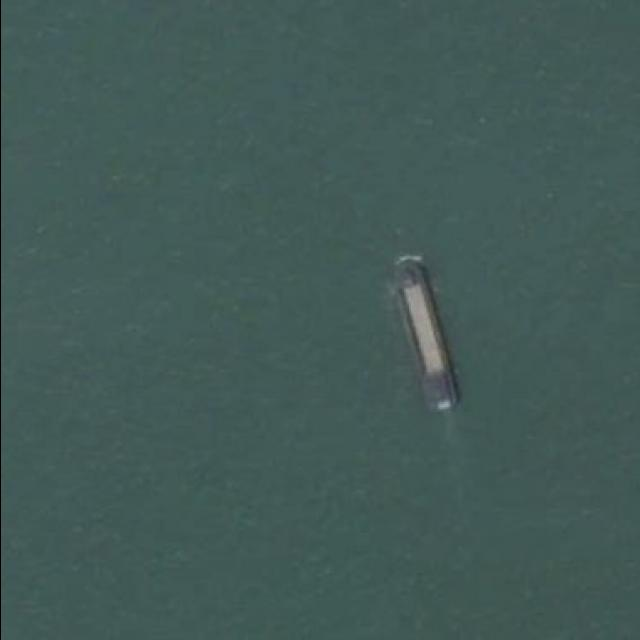ship: (386, 254, 461, 416)
